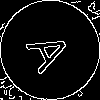A: (25, 25, 81, 76)
